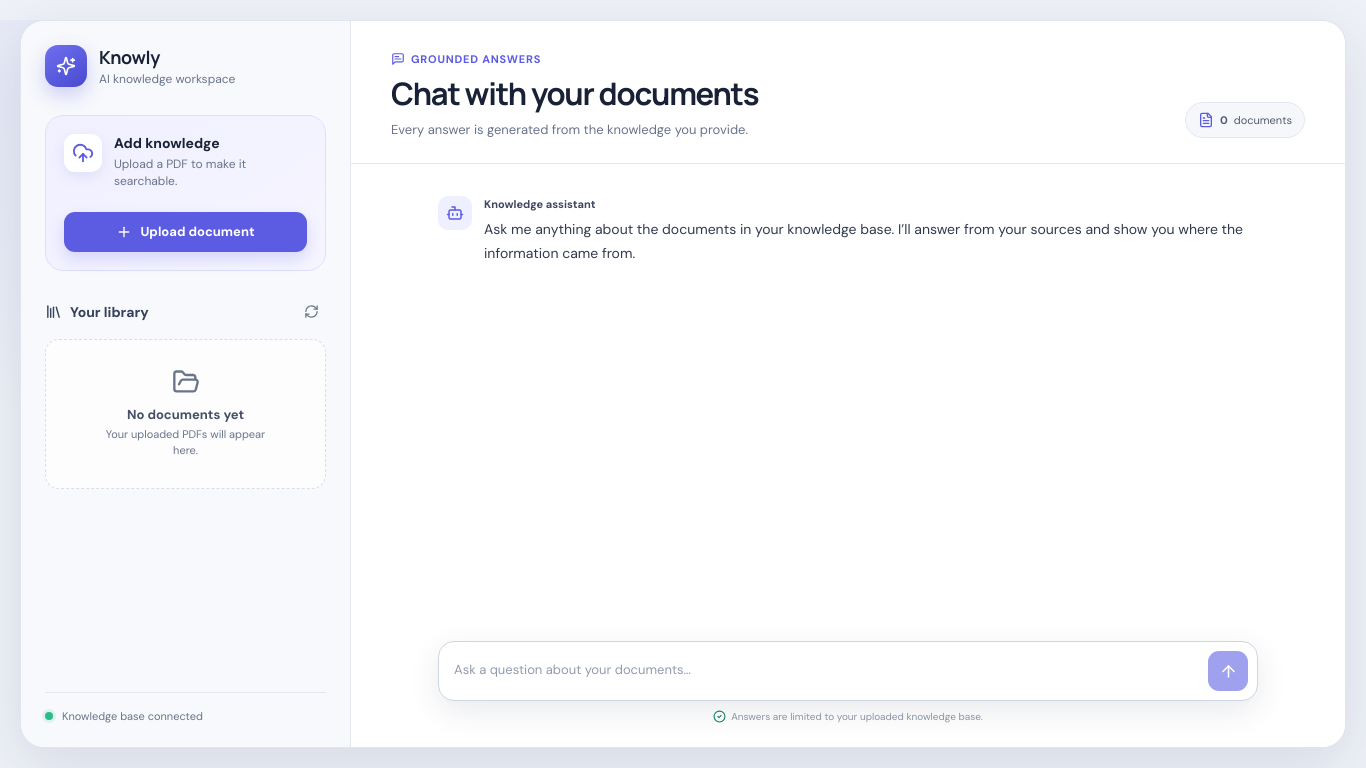
Test: knowledge workspace › sends a question and renders the grounded answer with its source
Step 1. Type "Where is Bangladesh?" into the text box labelled "Ask a question about your documents" → (826, 671), box [454,651,1198,691]
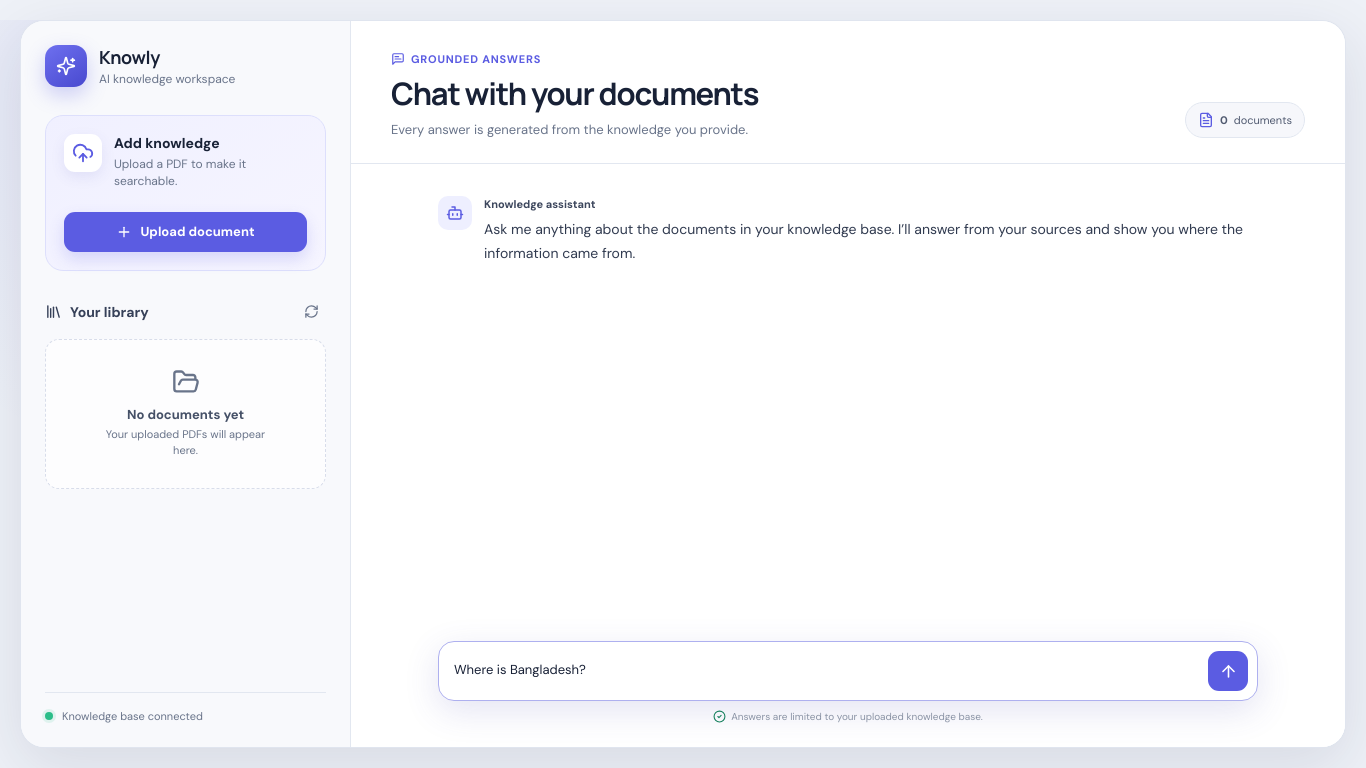
Step 2. Click the button named "Send question" → (1228, 671), box [1208,651,1248,691]
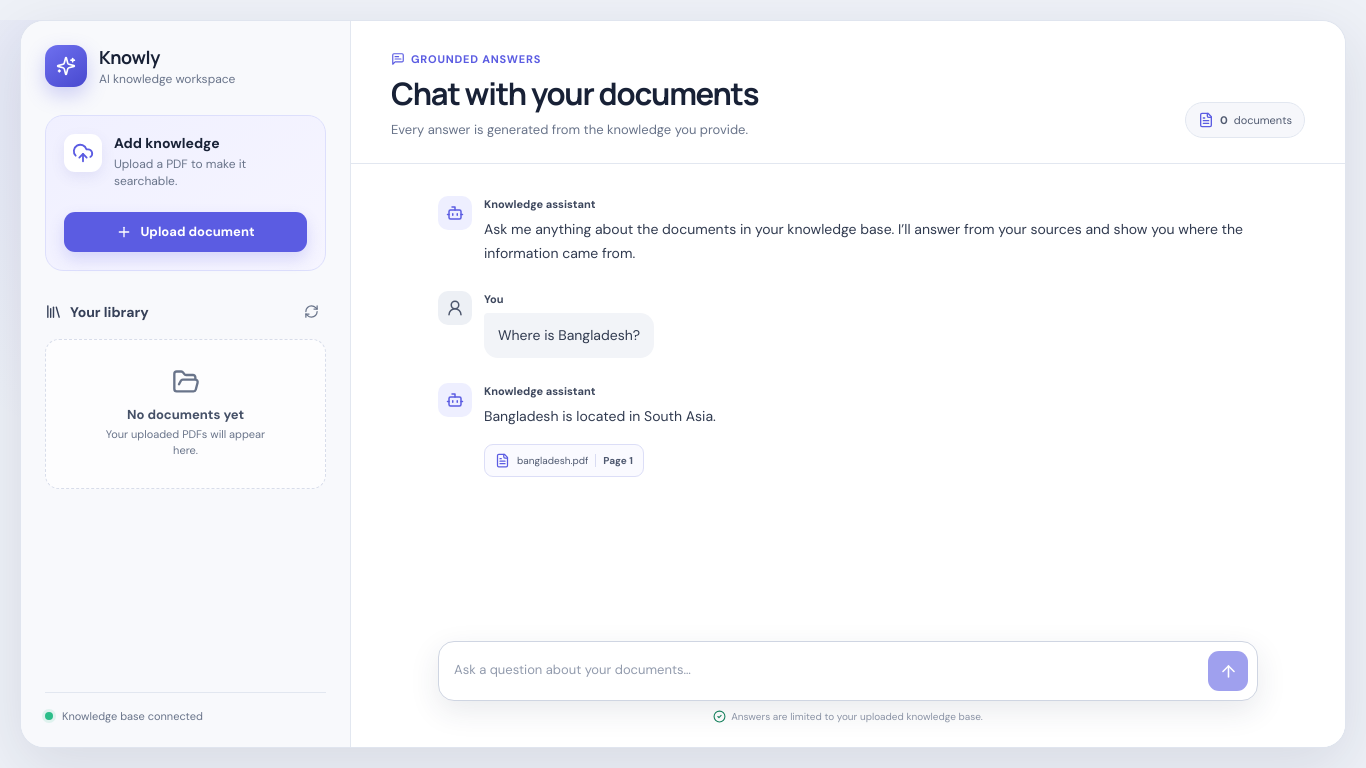
Check: the text "Bangladesh is located in South Asia." is shown, box [484,407,716,425]
Check: the text "Page 1" is shown, box [595,454,633,467]
